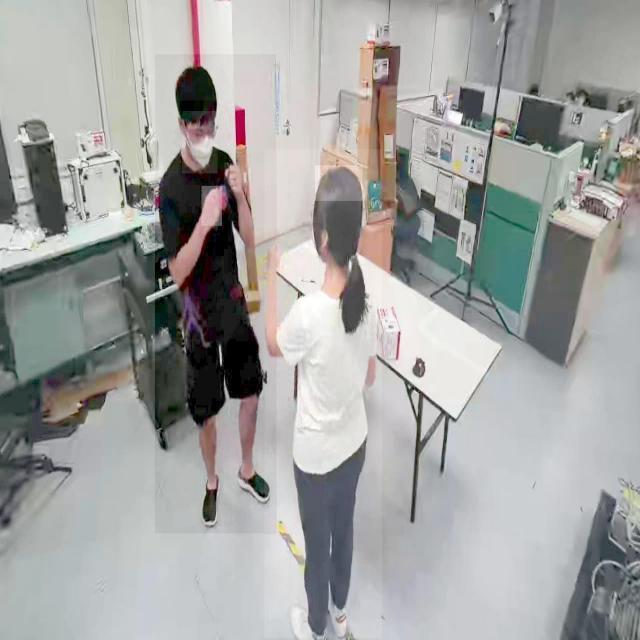boots: (283, 595, 330, 640), (232, 458, 274, 508), (198, 470, 226, 531), (323, 586, 352, 640)
